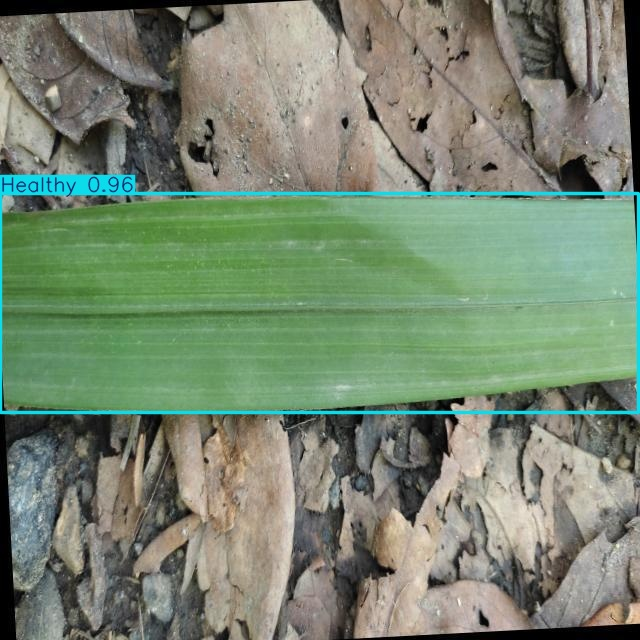Healthy: (1, 193, 638, 413)
